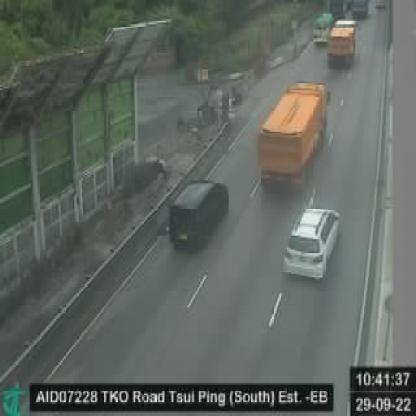Car: (164, 173, 230, 255), (281, 203, 342, 284)
Minibus: (308, 10, 336, 47)
Truck: (255, 78, 331, 196), (325, 17, 359, 71)
